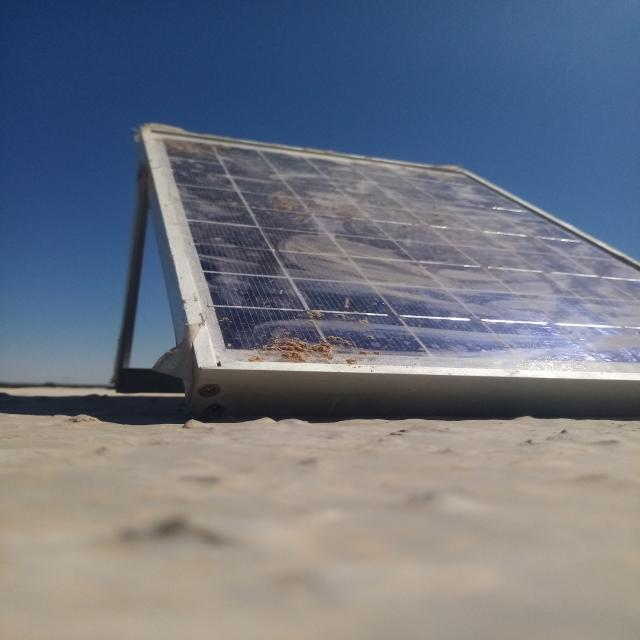faulty: (139, 126, 640, 378)
